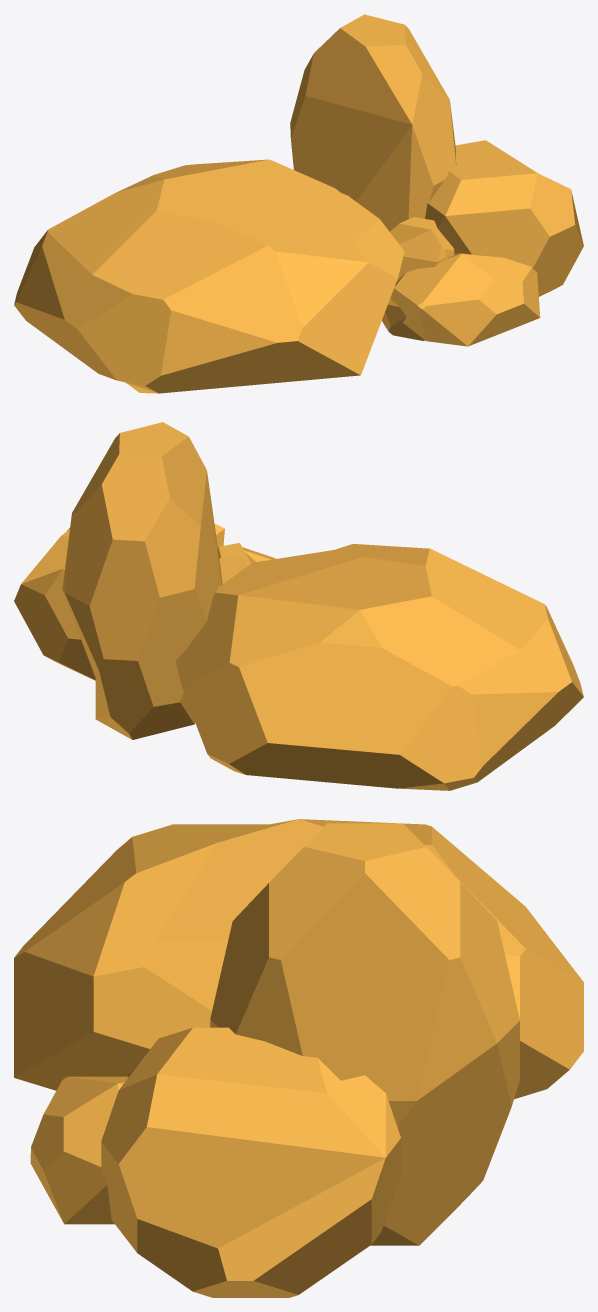
The model's file is RocksV1.fbx.
The picture shows the model from 3 angles, top to bottom: view 1: azimuth 30°, elevation 25°; view 2: azimuth 150°, elevation 25°; view 3: azimuth 270°, elevation 25°; orthographic projection. The views are drawn at different scales.
Visible parts, largest first — view 1: Icosphere.004, Icosphere.003, Icosphere.002, Icosphere.001, Icosphere; view 2: Icosphere.004, Icosphere.003, Icosphere.002, Icosphere; view 3: Icosphere.003, Icosphere.002, Icosphere.004, Icosphere.001.
Boxes of the visible parts, x1,y1,x2,y2 form: Icosphere.004: (14, 159, 404, 393); Icosphere.003: (290, 14, 456, 231); Icosphere.002: (425, 140, 583, 296); Icosphere.001: (390, 253, 540, 346); Icosphere: (382, 217, 454, 340); Icosphere.004: (175, 543, 583, 790); Icosphere.003: (62, 422, 222, 739); Icosphere.002: (14, 524, 224, 680); Icosphere: (218, 543, 255, 584); Icosphere.003: (210, 823, 519, 1245); Icosphere.002: (101, 1027, 400, 1297); Icosphere.004: (14, 819, 583, 1099); Icosphere.001: (30, 1076, 127, 1224).
Size of the model in its own units: 1145 by 572 by 767.
